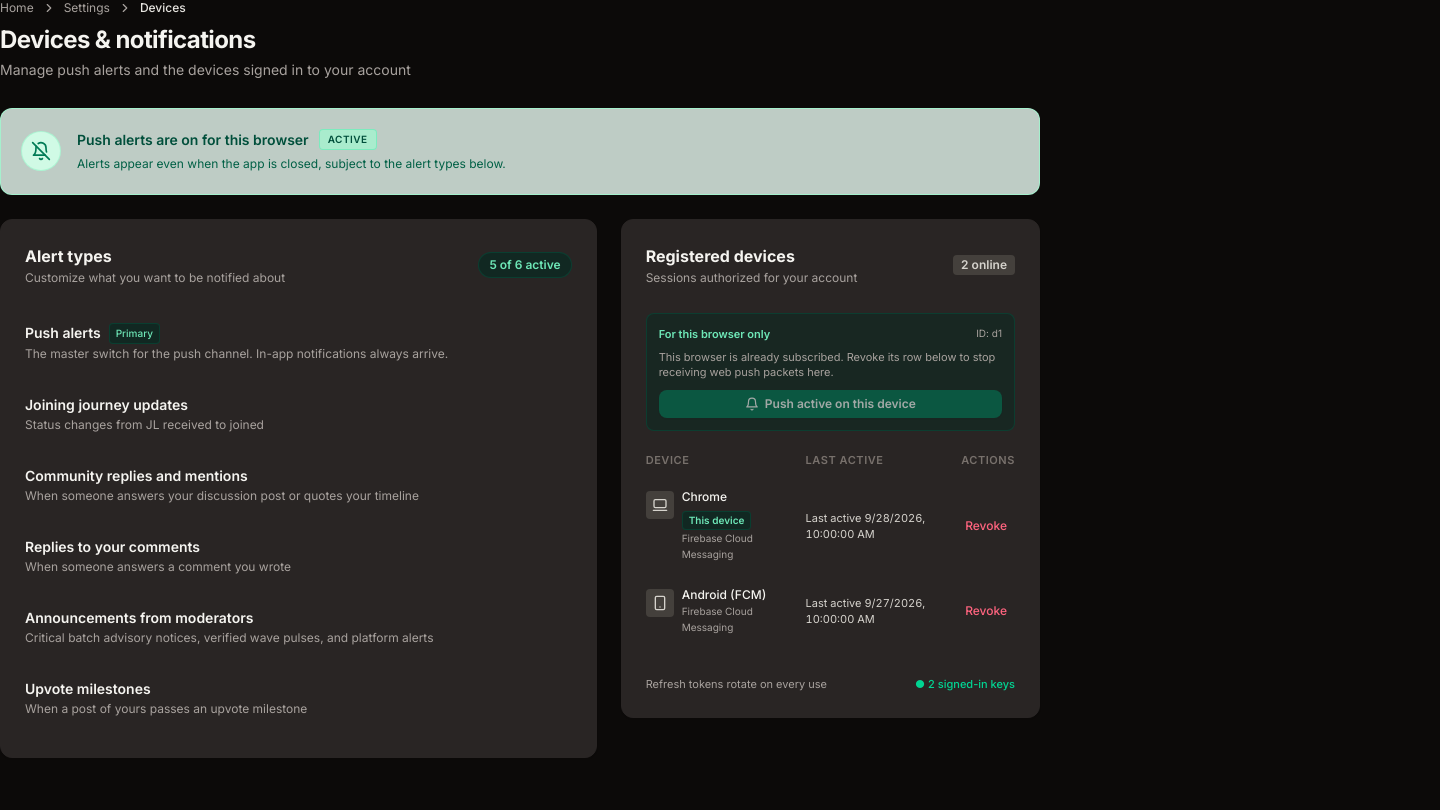
Scenario: SettingsDevicesPage (9.5 Task 5) › revokes exactly the targeted row and refetches the list
The image size is (1440, 810).
Click the button with test id "revoke-d1" at (986, 526), box [957,514,1015,538]
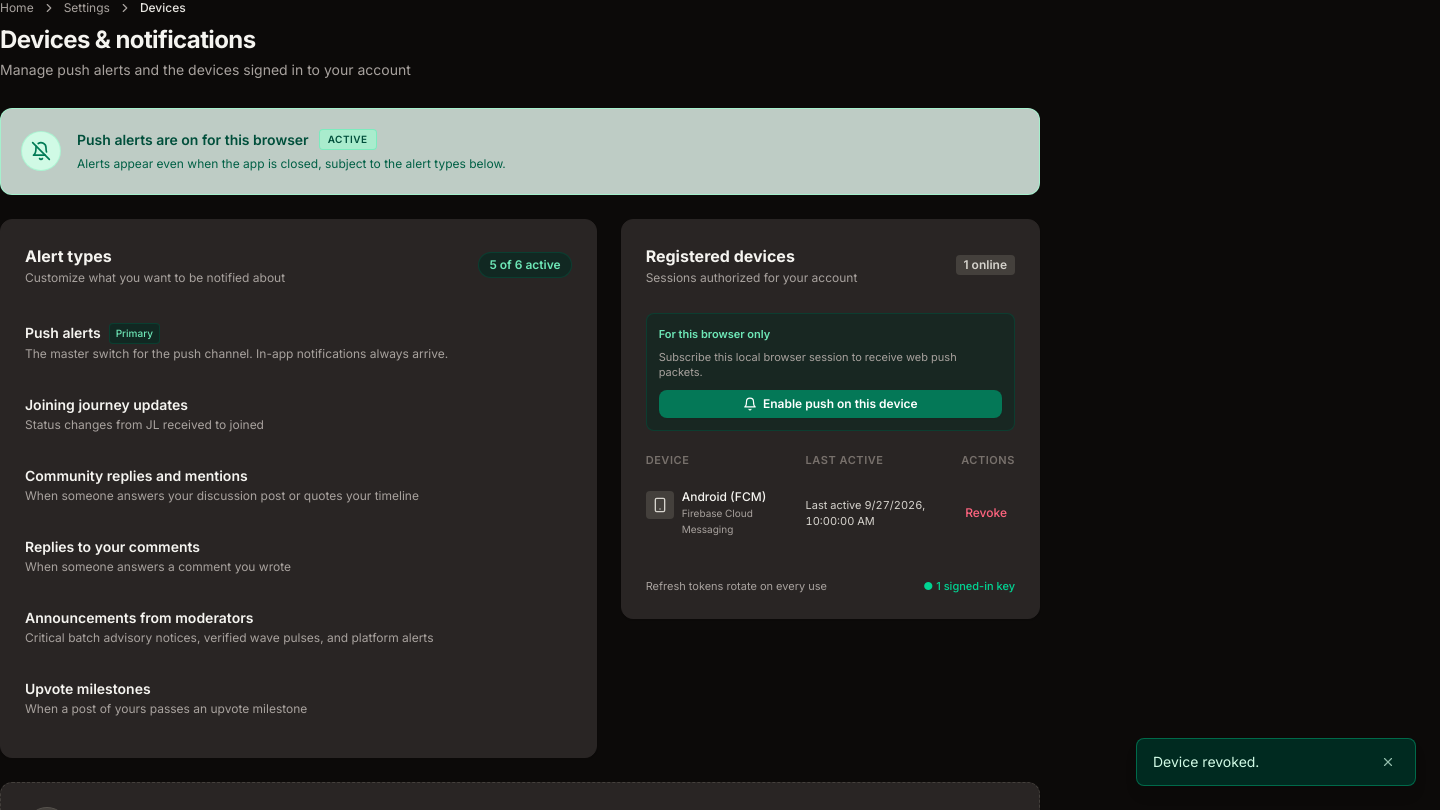
expect the text "Android (FCM)" is shown: met, box [682,489,766,505]
expect the number of rows with test id "device-row" is 1: met, box [646,476,1015,549]
expect the text "Chrome" is gone: met
